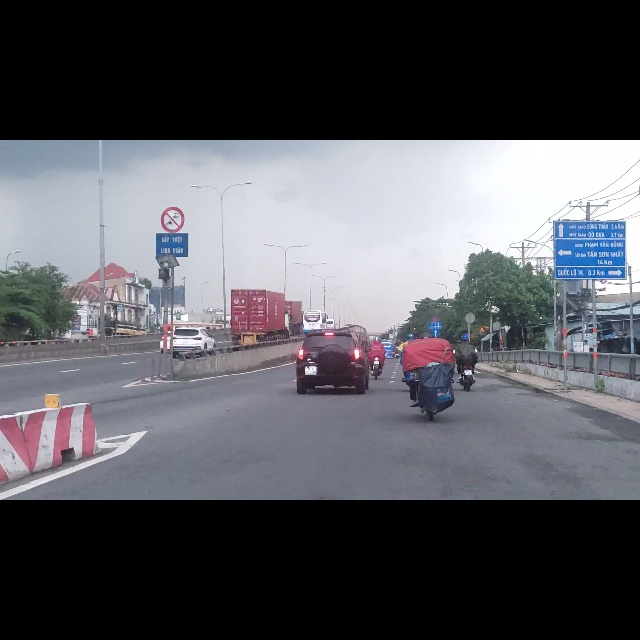bien_cam: (161, 119, 184, 165), (431, 336, 440, 351), (86, 335, 90, 345)
